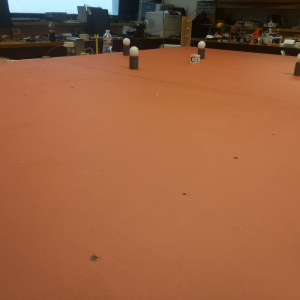obstacle: (129, 47, 138, 69), (121, 37, 130, 53), (199, 40, 205, 59)
